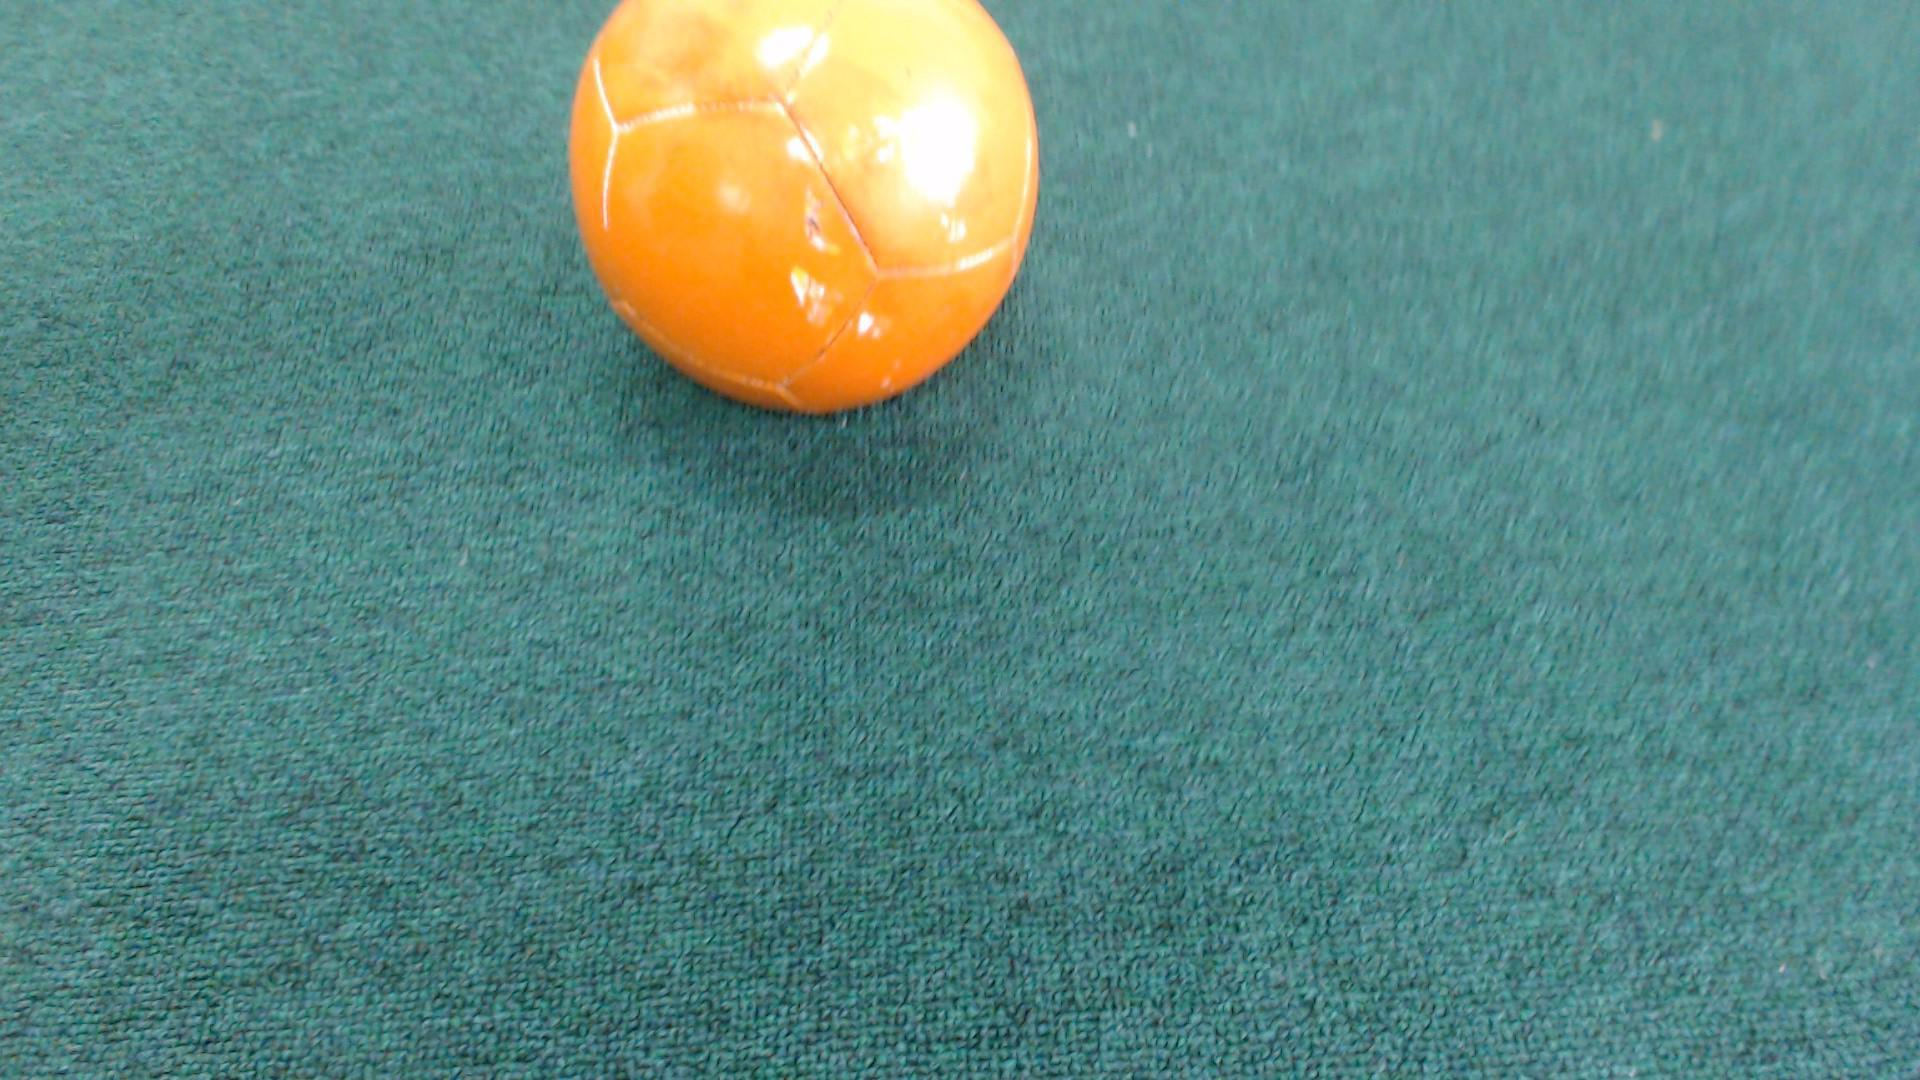bola: (549, 0, 1052, 433)
